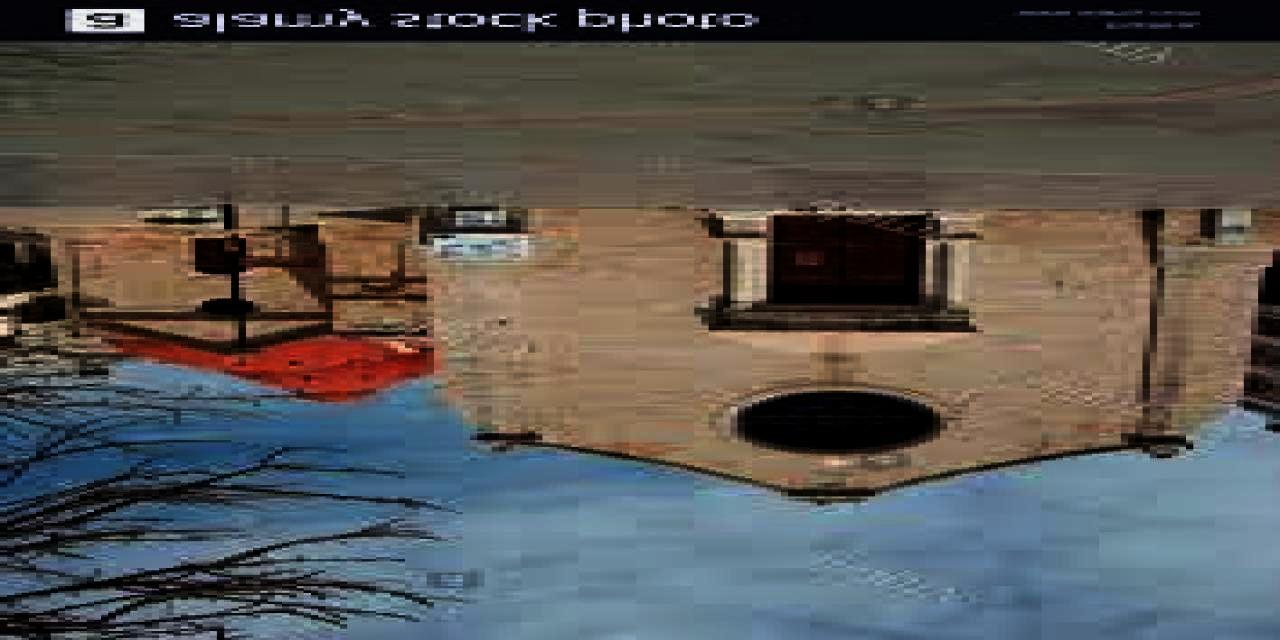Agia Aikaterini: (92, 210, 1270, 509)
